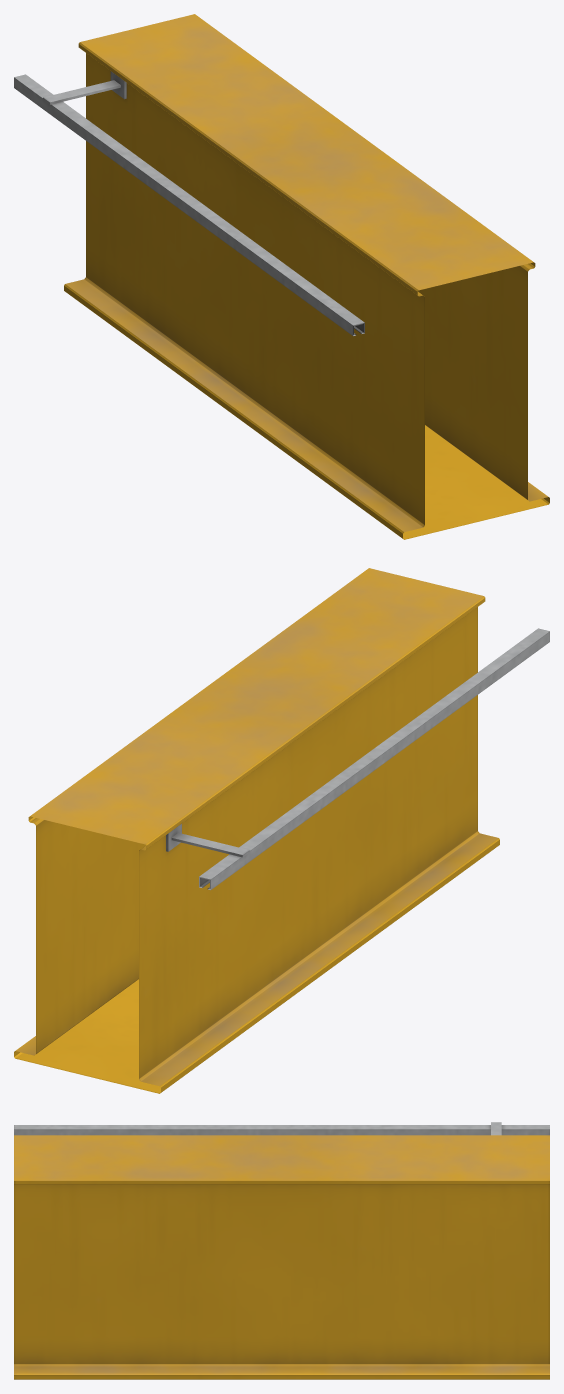
The model's file is Girder_Segment.fbx.
The picture shows the model from 3 angles, top to bottom: view 1: azimuth 30°, elevation 25°; view 2: azimuth 150°, elevation 25°; view 3: azimuth 270°, elevation 25°; orthographic projection. The views are drawn at different scales.
Visible parts, largest first — view 1: Girder_Segment_LOD0; view 2: Girder_Segment_LOD0; view 3: Girder_Segment_LOD0.
Part boxes in pixels (bbox=[...]): Girder_Segment_LOD0: bbox=[14, 14, 549, 539]; Girder_Segment_LOD0: bbox=[14, 568, 549, 1093]; Girder_Segment_LOD0: bbox=[14, 1122, 549, 1379].
Size of the model in its own units: 0.675 by 0.8 by 2.
Materials: 1 (1 with a texture image).
